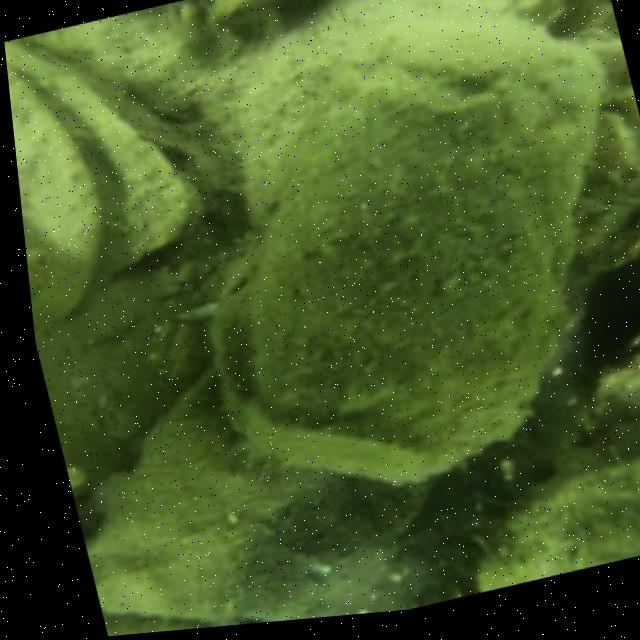Oyster-Closed: (204, 12, 610, 482)
Oyster-Indeterminate: (88, 372, 435, 625), (4, 37, 197, 280), (476, 415, 640, 592), (7, 69, 109, 327)
